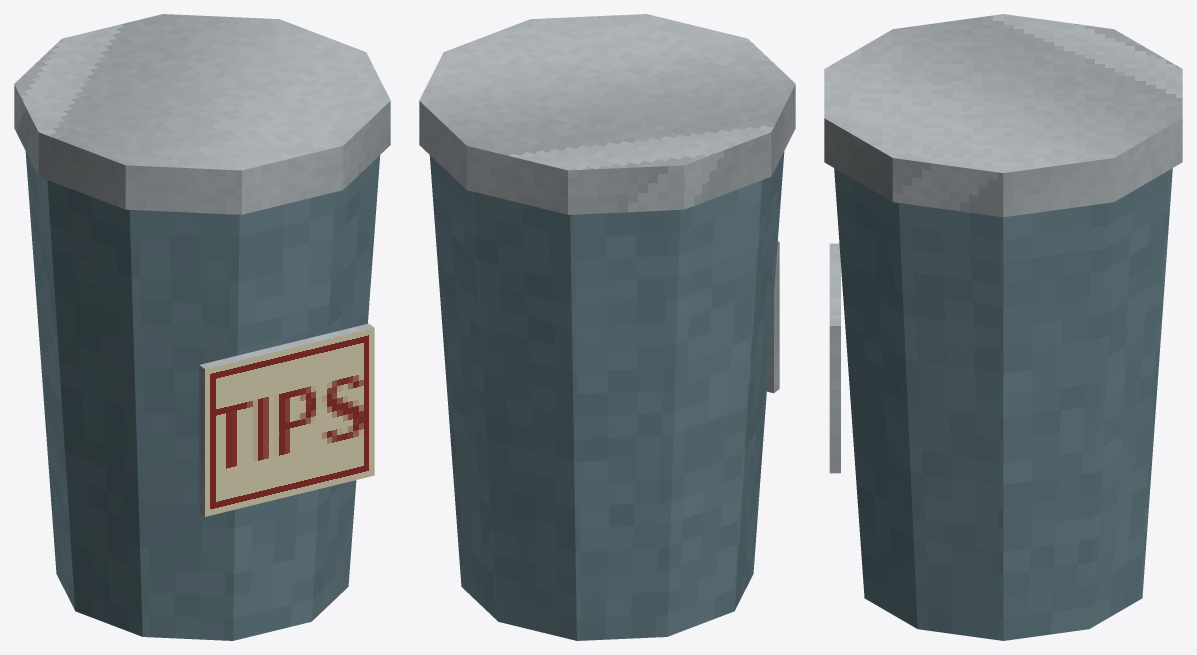
Rendered from tip_jar.glb.
The picture shows the model from 3 angles, left to right: view 1: azimuth 30°, elevation 25°; view 2: azimuth 150°, elevation 25°; view 3: azimuth 270°, elevation 25°; orthographic projection.
Visible parts, largest first — view 1: tip_jar; view 2: tip_jar; view 3: tip_jar.
Boxes of the visible parts, <box> form: tip_jar: <box>14,14,390,640</box>; tip_jar: <box>419,14,795,640</box>; tip_jar: <box>824,14,1182,640</box>.
Bounding box in the file's own units: 0.116 × 0.165 × 0.1103.
5 materials, 5 textured.
